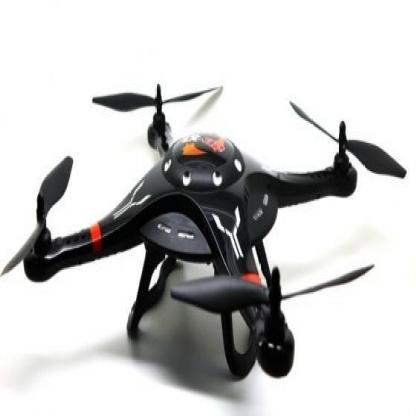drone: (24, 50, 410, 379)
